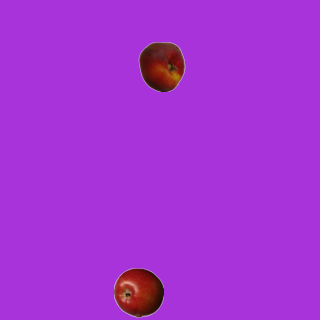Apple Braeburn: (113, 267, 163, 317)
Nectarine Flat: (136, 41, 186, 91)
